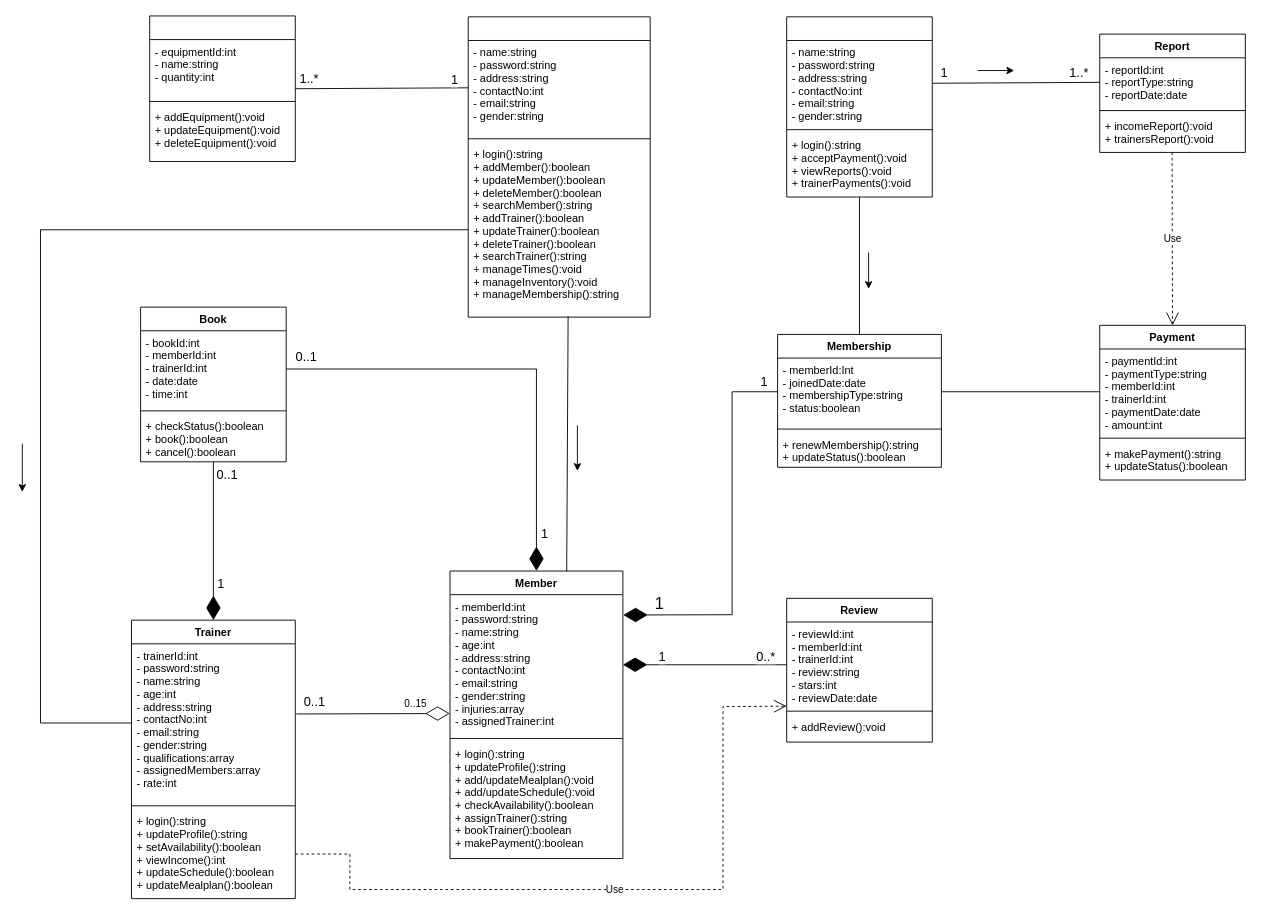
Image size: 1261x918. Some labels were removed from this diagram. The shapes that lost their labels are listed below. From the top down, each one's box as (x1, y1, x2, y2) in pixels, then its label:
(149, 15, 295, 162): Inventory
(786, 16, 932, 197): Accountant
(467, 16, 650, 317): Admin
